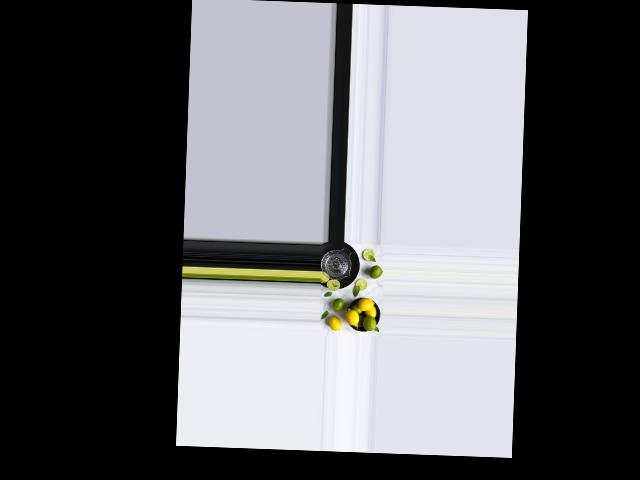lemon: (370, 264, 382, 279)
